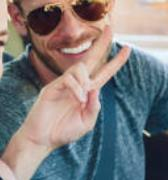front: (20, 23, 134, 148)
